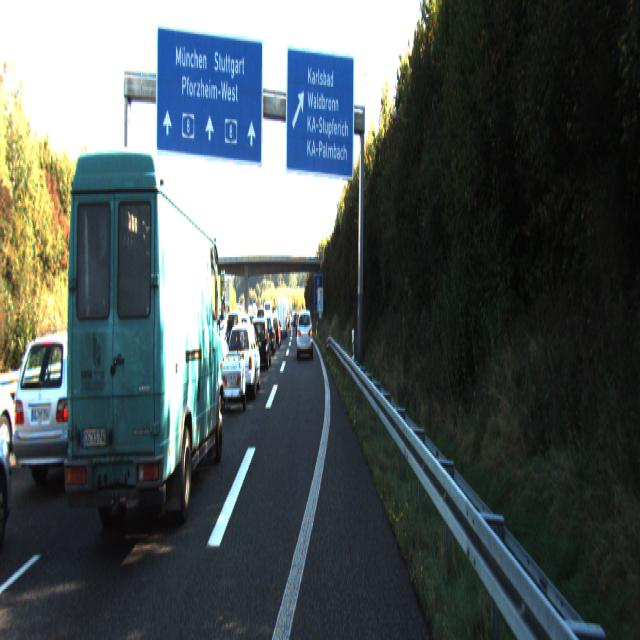Car: (64, 139, 226, 562), (14, 323, 136, 497), (0, 328, 26, 557), (225, 318, 261, 402), (0, 316, 18, 475), (219, 346, 248, 411), (248, 313, 272, 368), (296, 306, 313, 358), (276, 294, 288, 336)
